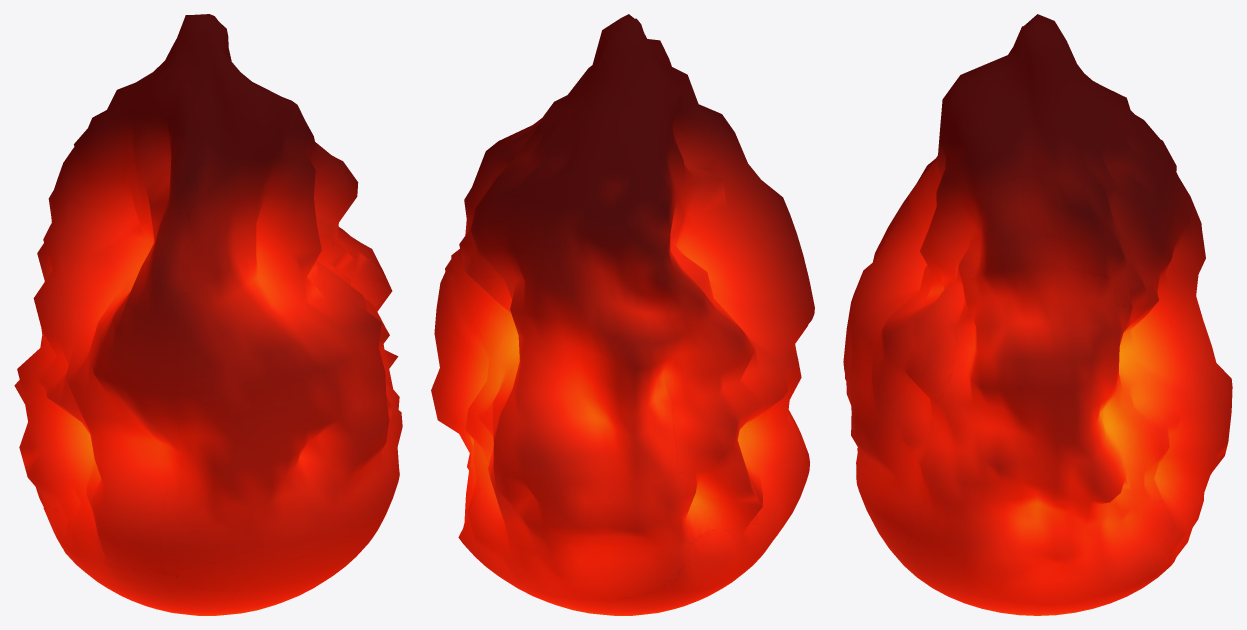
Rendered from Fire.fbx.
The picture shows the model from 3 angles, left to right: view 1: azimuth 30°, elevation 25°; view 2: azimuth 150°, elevation 25°; view 3: azimuth 270°, elevation 25°; orthographic projection.
Visible parts, largest first — view 1: Fire_Baked; view 2: Fire_Baked; view 3: Fire_Baked.
Part boxes in pixels (x1=…): Fire_Baked: x1=14, y1=14, x2=402, y2=615; Fire_Baked: x1=431, y1=14, x2=814, y2=615; Fire_Baked: x1=843, y1=14, x2=1232, y2=615.
Size of the model in its own units: 155 by 261 by 160.
